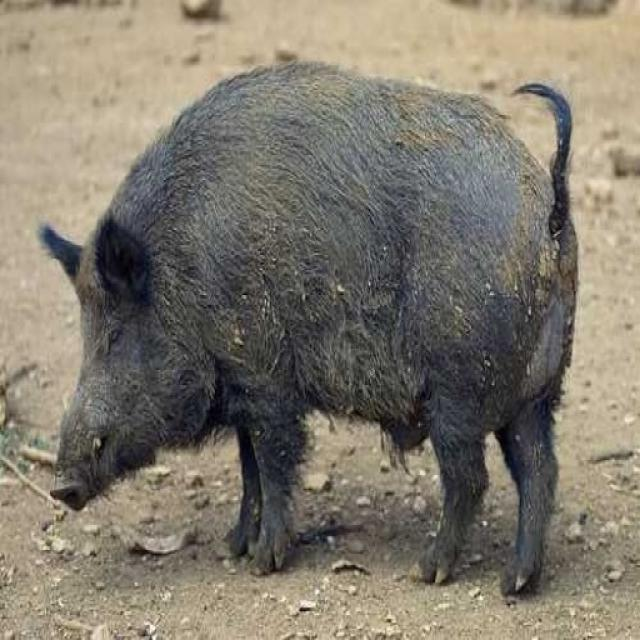pig: (30, 54, 608, 616)
